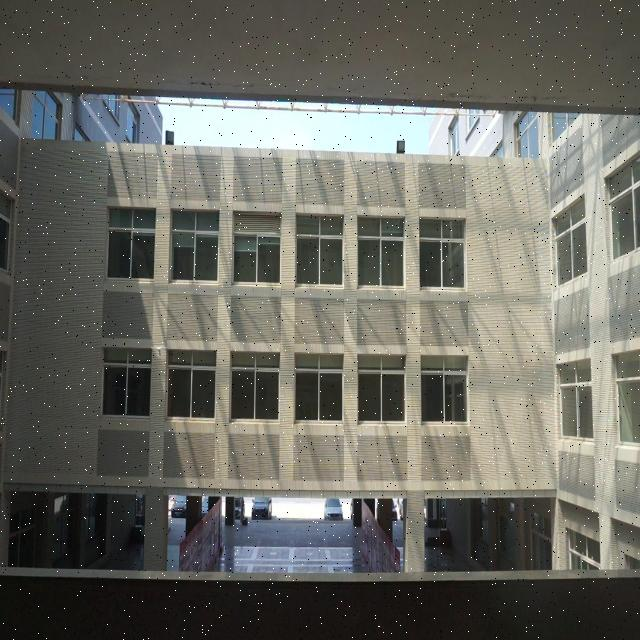UAV: (150, 346, 168, 356)
